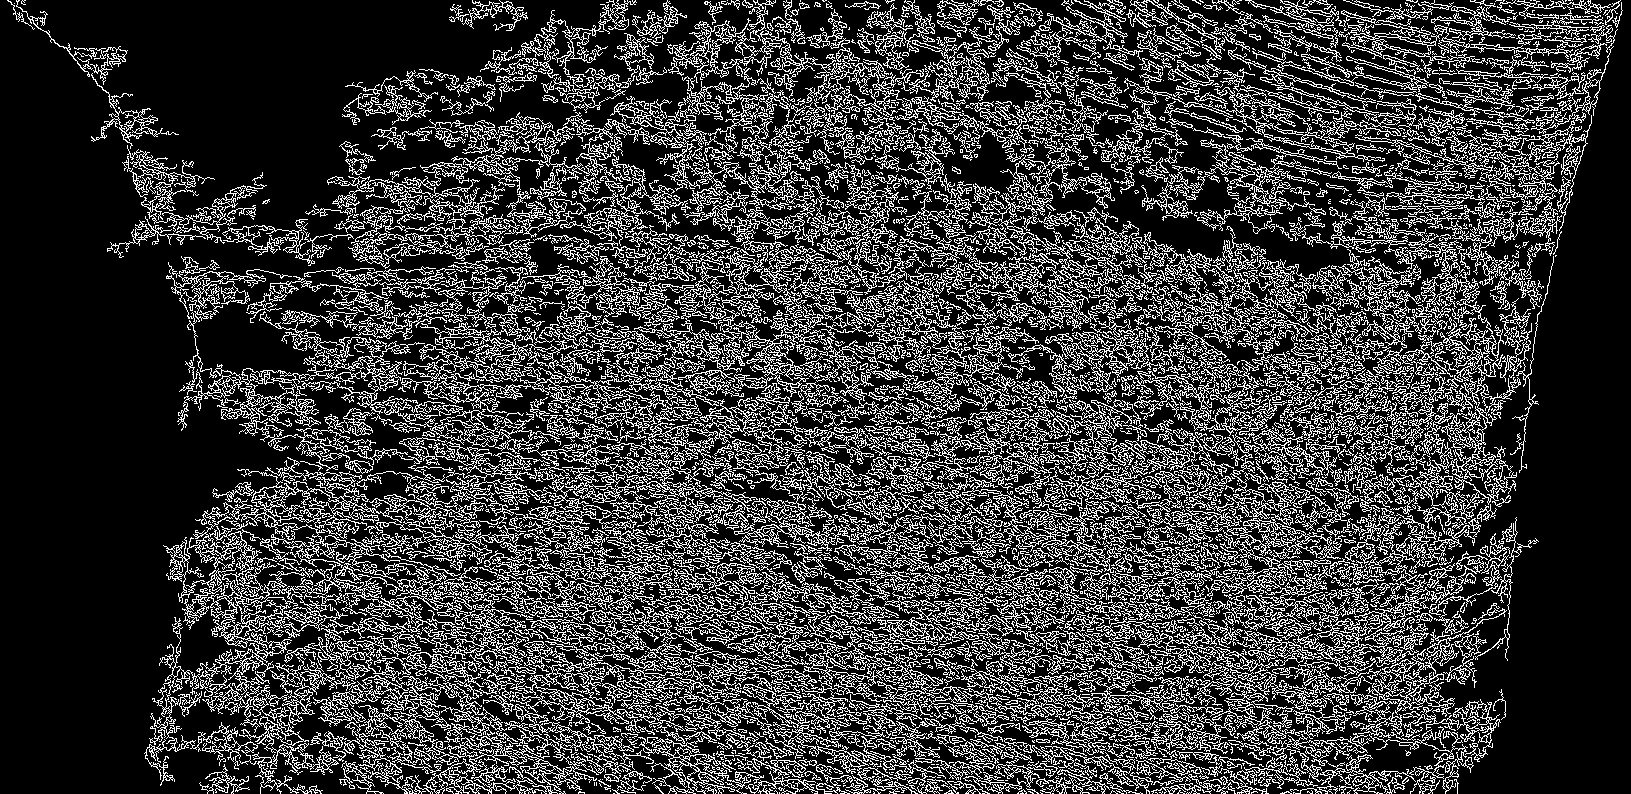singlecore: (818, 572, 821, 577), (1238, 475, 1242, 478), (809, 279, 812, 282), (844, 404, 847, 407), (789, 433, 793, 436), (795, 431, 798, 434), (828, 538, 831, 541), (758, 537, 761, 540), (1084, 372, 1087, 375), (1068, 504, 1071, 507), (1009, 449, 1012, 452), (1022, 518, 1026, 521), (1027, 548, 1030, 552), (1060, 517, 1063, 520), (1093, 505, 1096, 508), (1010, 547, 1013, 550), (999, 568, 1002, 571), (1064, 691, 1067, 694), (553, 748, 556, 751), (1158, 453, 1161, 456), (1186, 463, 1189, 466), (1243, 401, 1246, 404), (1255, 357, 1259, 360), (1179, 586, 1182, 589), (611, 514, 614, 517), (664, 496, 667, 500), (582, 565, 586, 568), (1336, 588, 1339, 591), (1274, 494, 1277, 497), (1221, 705, 1224, 708), (1221, 668, 1224, 671), (1345, 714, 1348, 717), (1211, 604, 1214, 607), (1238, 482, 1241, 485), (818, 338, 821, 340), (787, 535, 789, 538), (710, 593, 713, 596), (789, 544, 792, 547), (1094, 526, 1097, 528), (1188, 430, 1191, 432), (1124, 375, 1127, 378), (1349, 390, 1352, 392), (1285, 399, 1287, 402), (1323, 471, 1326, 473), (1334, 676, 1337, 678), (1228, 613, 1231, 616)
